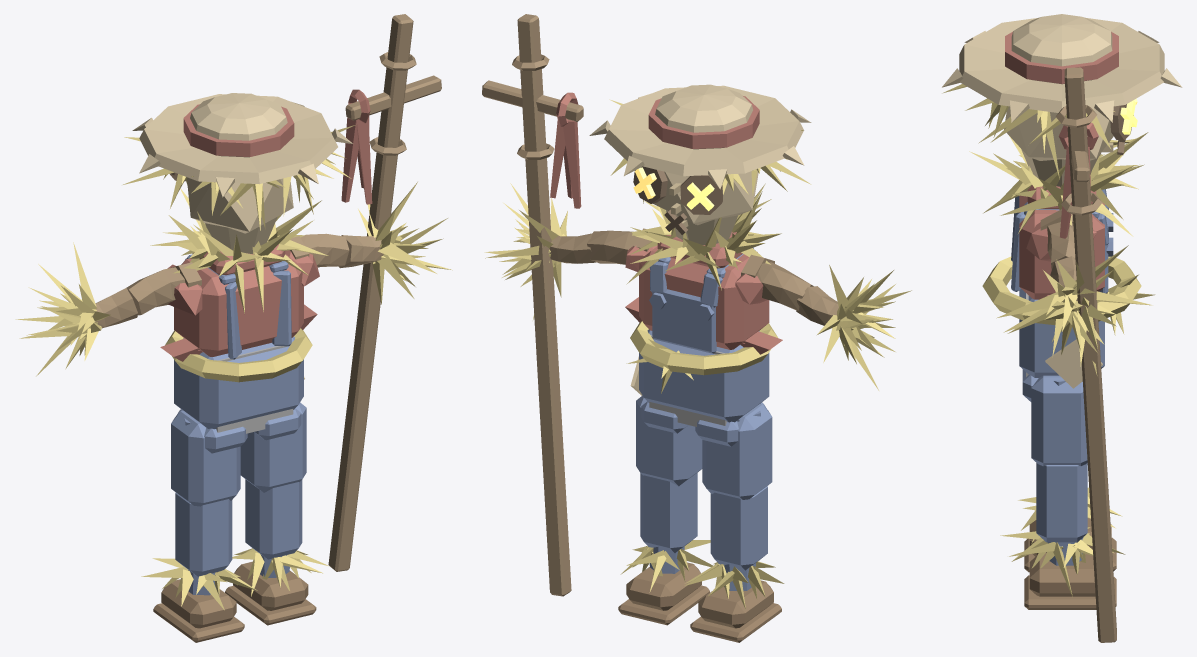
Rendered from Strawman.fbx.
3 renders of one model, left to right at view 1: azimuth 30°, elevation 25°; view 2: azimuth 150°, elevation 25°; view 3: azimuth 270°, elevation 25°, orthographic. The views are drawn at different scales.
Parts seen in each view (by area): view 1: Strawman_Staff_Pole, Strawman_Hat_Burlap, Strawman_Torso_Shirt, Strawman_Hips_Denim, Strawman_LegUpper_L_Denim, Strawman_Head_Burlap, Strawman_Ruff_Straw, Strawman_LegLower_L_Denim, Strawman_LegLower_R_Denim, Strawman_LegUpper_R_Denim, Strawman_Cuff_L_Straw, Strawman_Boot_L_Boot (+14 smaller); view 2: Strawman_Staff_Pole, Strawman_Hat_Burlap, Strawman_Hips_Denim, Strawman_Torso_Shirt, Strawman_LegUpper_L_Denim, Strawman_Straps_Denim, Strawman_LegLower_L_Denim, Strawman_LegLower_R_Denim, Strawman_Ruff_Straw, Strawman_Cuff_L_Straw, Strawman_LegUpper_R_Denim, Strawman_Boot_R_Boot (+15 smaller); view 3: Strawman_Hat_Burlap, Strawman_Staff_Pole, Strawman_LegUpper_R_Denim, Strawman_Cuff_R_Straw, Strawman_LegLower_R_Denim, Strawman_Ruff_Straw, Strawman_Torso_Shirt, Strawman_Boot_R_Boot, Strawman_Belt_Straw, Strawman_Head_Burlap, Strawman_Hips_Denim, Strawman_HatBand_Shirt (+11 smaller).
Boxes of the visible parts, x1,y1,x2,y2 form: Strawman_Staff_Pole: [328, 14, 441, 571]; Strawman_Hat_Burlap: [132, 93, 352, 197]; Strawman_Torso_Shirt: [160, 244, 319, 361]; Strawman_Hips_Denim: [174, 336, 303, 453]; Strawman_LegUpper_L_Denim: [171, 410, 240, 506]; Strawman_Head_Burlap: [187, 177, 293, 253]; Strawman_Ruff_Straw: [150, 188, 328, 313]; Strawman_LegLower_L_Denim: [175, 493, 232, 595]; Strawman_LegLower_R_Denim: [245, 479, 302, 577]; Strawman_LegUpper_R_Denim: [240, 402, 306, 492]; Strawman_Cuff_L_Straw: [15, 242, 110, 376]; Strawman_Boot_L_Boot: [153, 579, 244, 642]; Strawman_Staff_Pole: [482, 14, 583, 596]; Strawman_Hat_Burlap: [589, 84, 811, 189]; Strawman_Hips_Denim: [639, 329, 769, 446]; Strawman_Torso_Shirt: [625, 232, 782, 354]; Strawman_LegUpper_L_Denim: [702, 404, 772, 499]; Strawman_Straps_Denim: [649, 247, 755, 353]; Strawman_LegLower_L_Denim: [710, 486, 767, 590]; Strawman_LegLower_R_Denim: [640, 473, 697, 573]; Strawman_Ruff_Straw: [626, 183, 781, 290]; Strawman_Cuff_L_Straw: [817, 265, 911, 390]; Strawman_LegUpper_R_Denim: [636, 395, 702, 486]; Strawman_Boot_R_Boot: [618, 562, 709, 625]; Strawman_Hat_Burlap: [942, 14, 1182, 122]; Strawman_Staff_Pole: [1055, 67, 1116, 642]; Strawman_LegUpper_R_Denim: [1031, 375, 1087, 466]; Strawman_Cuff_R_Straw: [996, 245, 1152, 375]; Strawman_LegLower_R_Denim: [1036, 463, 1087, 565]; Strawman_Ruff_Straw: [969, 122, 1148, 236]; Strawman_Torso_Shirt: [1019, 185, 1104, 299]; Strawman_Boot_R_Boot: [1024, 553, 1116, 609]; Strawman_Belt_Straw: [982, 256, 1155, 335]; Strawman_Head_Burlap: [1004, 106, 1113, 186]; Strawman_Hips_Denim: [1019, 289, 1104, 401]; Strawman_HatBand_Shirt: [1005, 31, 1118, 83].
Size of what is drawn, in the model's own units: 6.05 by 7.71 by 2.82.
